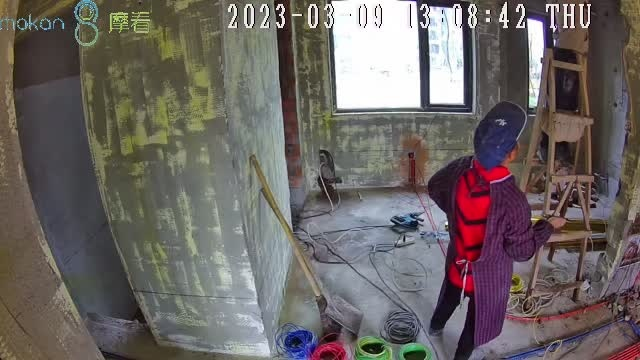people: (427, 101, 565, 359)
window: (332, 1, 469, 110)
